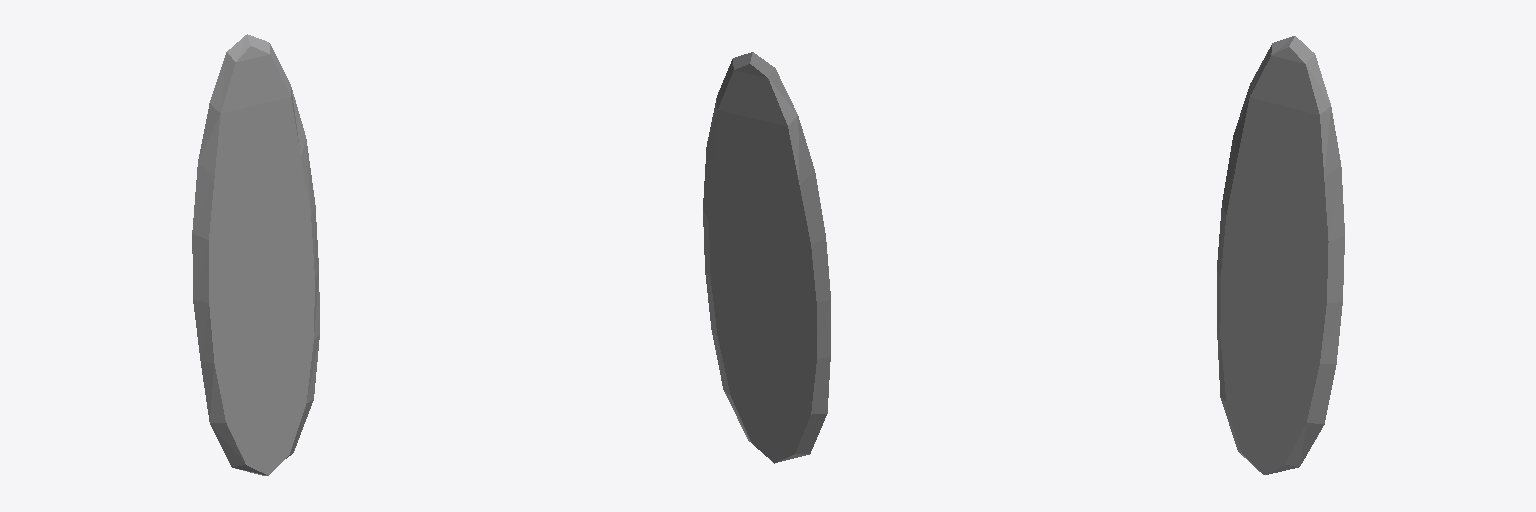
File: Surfboard.obj
3 renders of one model, left to right at view 1: azimuth 30°, elevation 25°; view 2: azimuth 150°, elevation 25°; view 3: azimuth 330°, elevation 25°, orthographic.
Parts seen in each view (by area): view 1: Mesh.010_pCube5; view 2: Mesh.010_pCube5; view 3: Mesh.010_pCube5.
Boxes of the visible parts, <box> form: Mesh.010_pCube5: <box>192,34,319,475</box>; Mesh.010_pCube5: <box>703,52,830,463</box>; Mesh.010_pCube5: <box>1217,36,1344,474</box>.
Bounding box in the file's own units: 62.45 × 201 × 25.3.